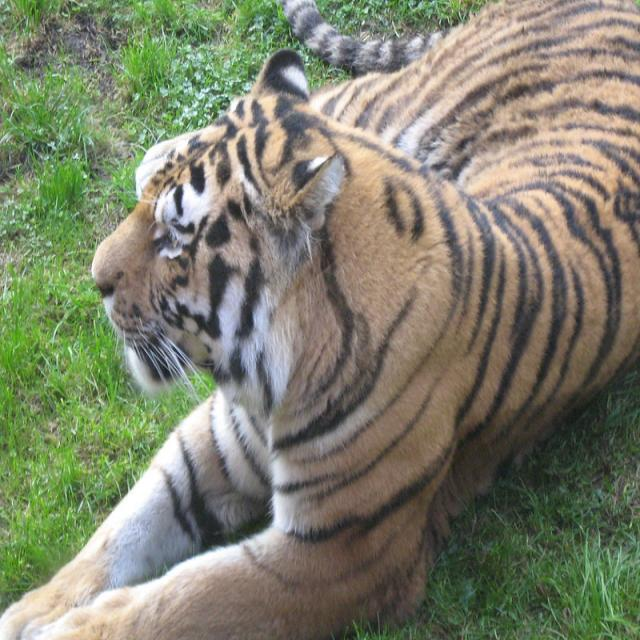Tiger: (0, 0, 638, 637)
